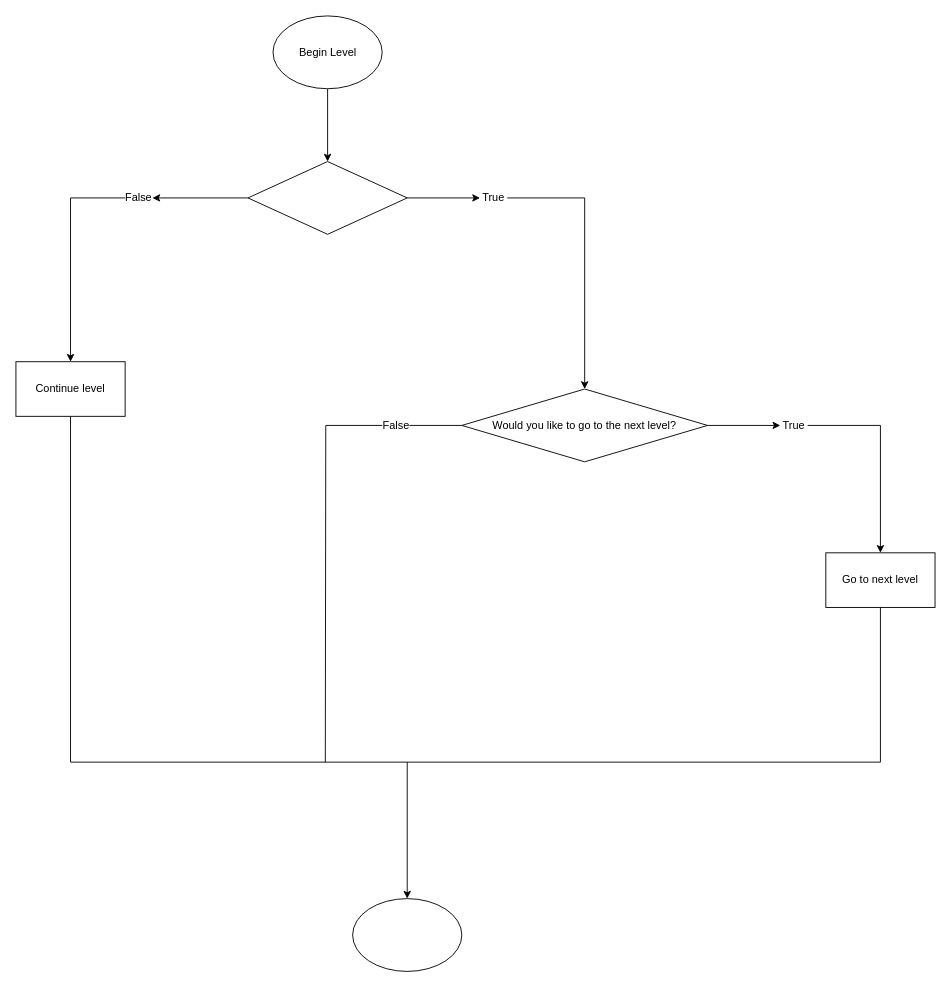
Some shapes in this 951 by 987 pixel diagram are drawn without their labels. Each missing label, with the box of its shape:
End Level: (352, 898, 462, 971)
Level Completed?: (247, 161, 407, 234)
